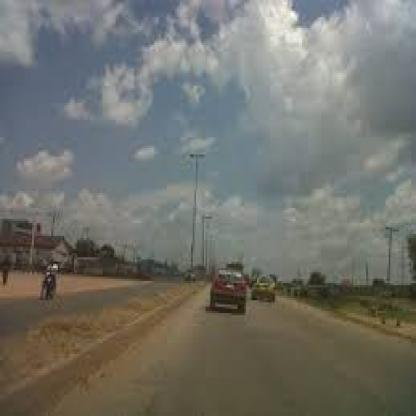car: (200, 264, 258, 324), (251, 246, 282, 307), (32, 251, 62, 308)
